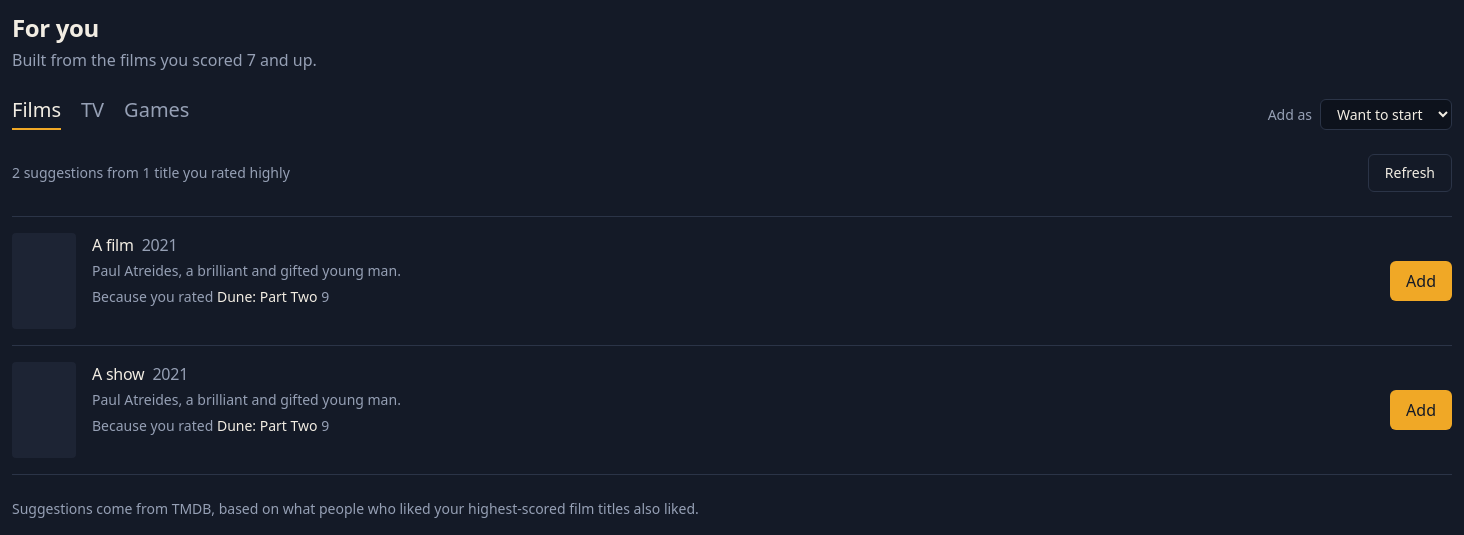
ForYouPage › marks only the added title, not one of another type sharing its id
expect the heading "A film2021" is shown: met, box [92,234,177,256]
Step 1. Click the 1st button "Add" → (1421, 281), box [1390,261,1452,301]
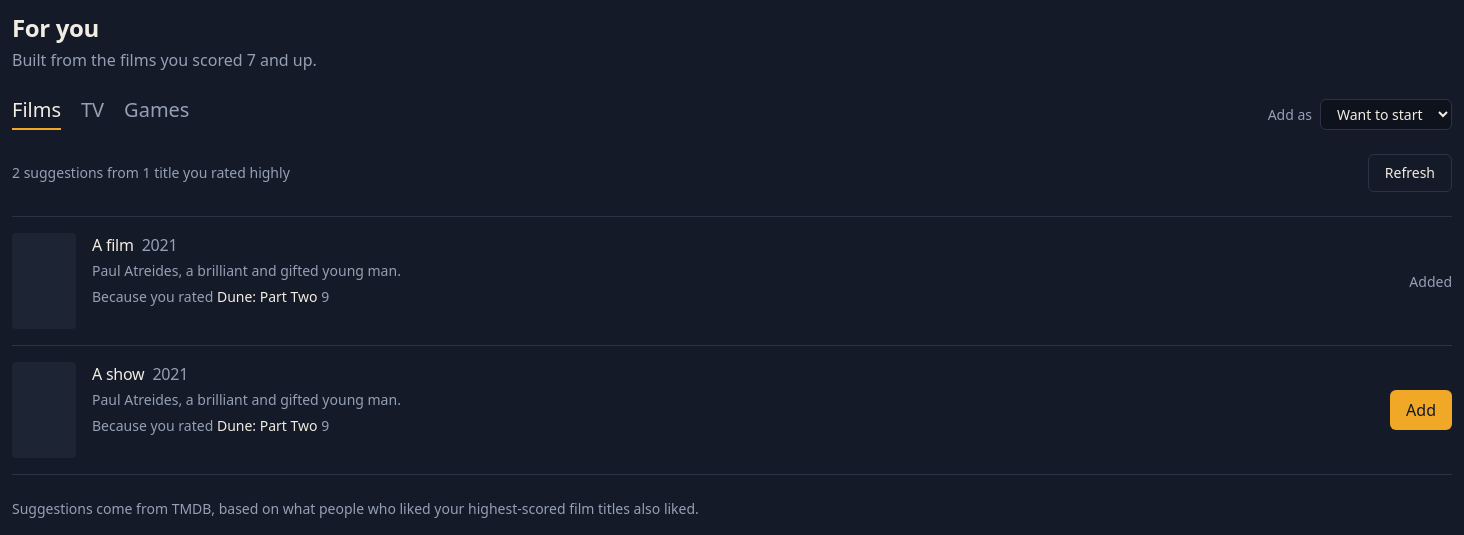
expect the number of buttons "Add" is 1: met, box [1390,390,1452,430]
expect the text "Added" is shown: met, box [1409,272,1452,291]
